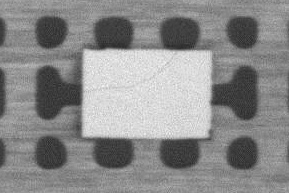DIE_CRACK: (83, 51, 177, 92)
